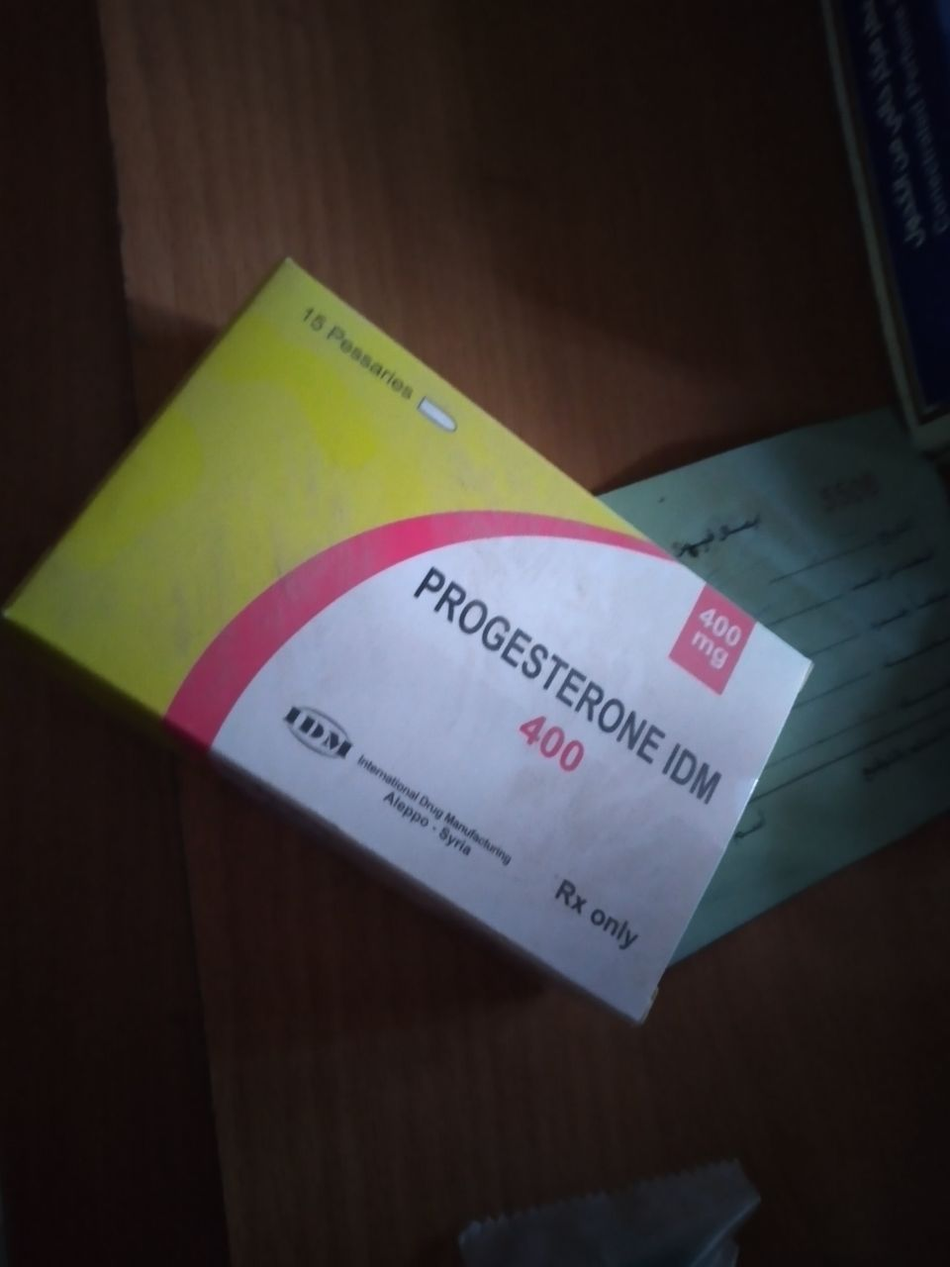Medicine: (43, 257, 811, 1020)
